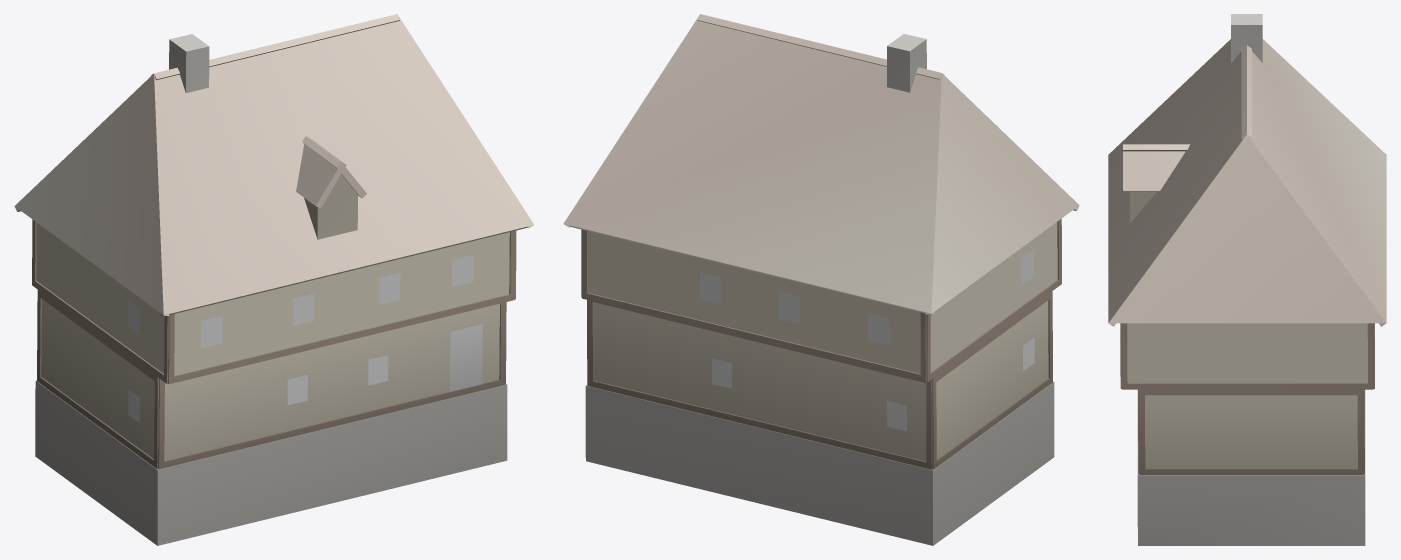
The model's file is timber_2.glb.
3 views of the same model, side by side, from view 1: azimuth 30°, elevation 25°; view 2: azimuth 150°, elevation 25°; view 3: azimuth 270°, elevation 25° (orthographic). The views are drawn at different scales.
Parts seen in each view (by area): view 1: timber_2; view 2: timber_2; view 3: timber_2.
Boxes of the visible parts, x1,y1,x2,y2 form: timber_2: (14,14,534,545); timber_2: (563,14,1079,545); timber_2: (1108,14,1386,545).
Size of the model in its own units: 12 by 13.56 by 8.36.
